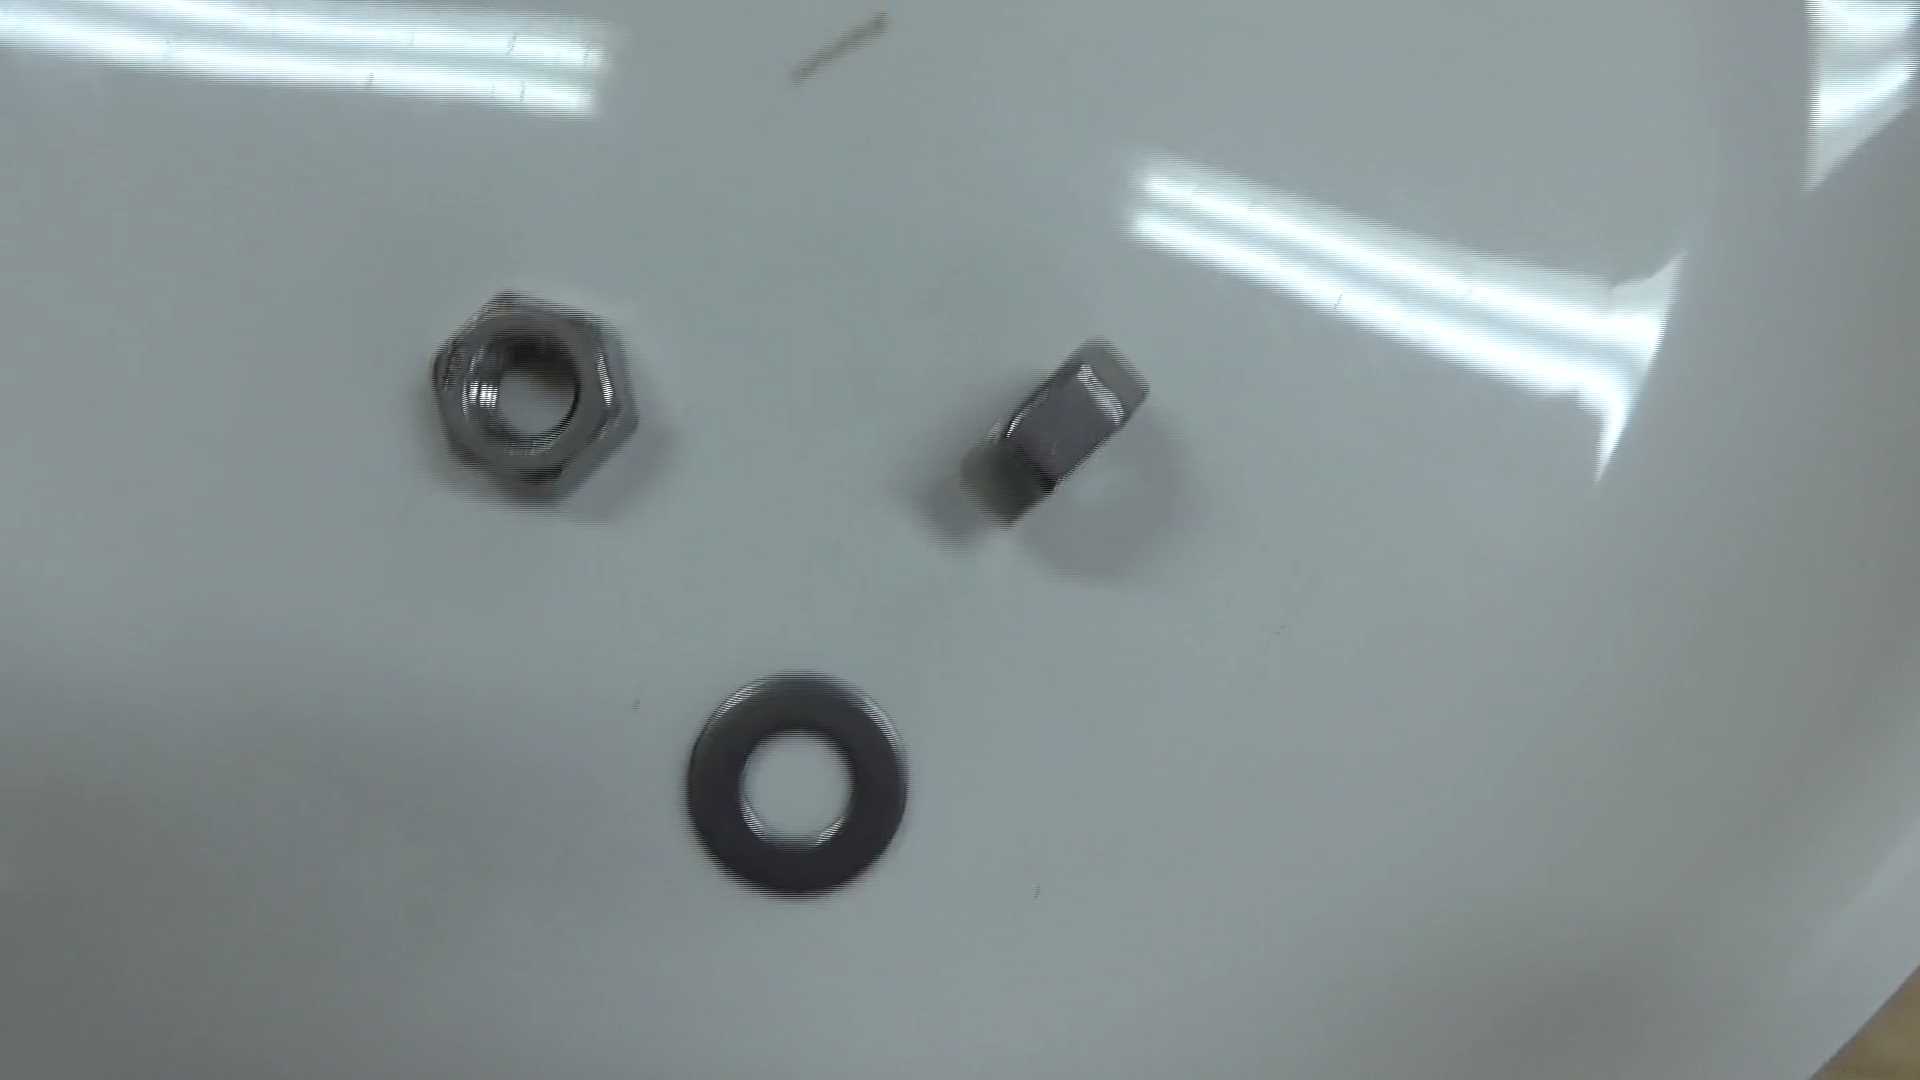nut: (422, 280, 641, 506), (957, 332, 1153, 526)
washer: (679, 667, 909, 902)
